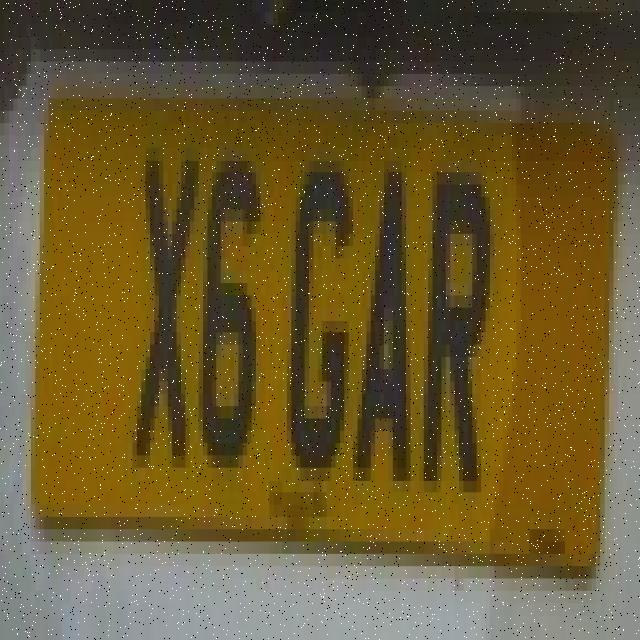licenseplate: (34, 62, 612, 598)
